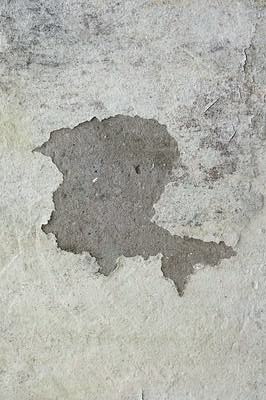Spalling: (31, 113, 239, 298)
